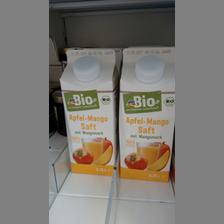Saft: (118, 46, 174, 180), (59, 48, 117, 176)
